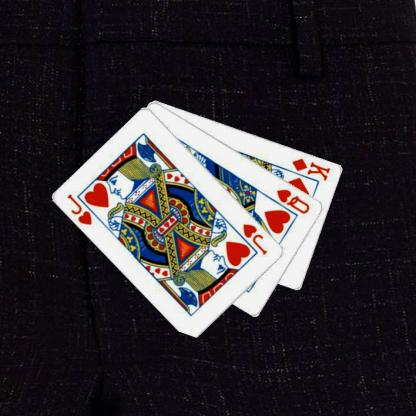JH: (240, 221, 269, 256), (64, 191, 93, 226)
KD: (290, 155, 332, 182)
QH: (274, 186, 312, 215)
